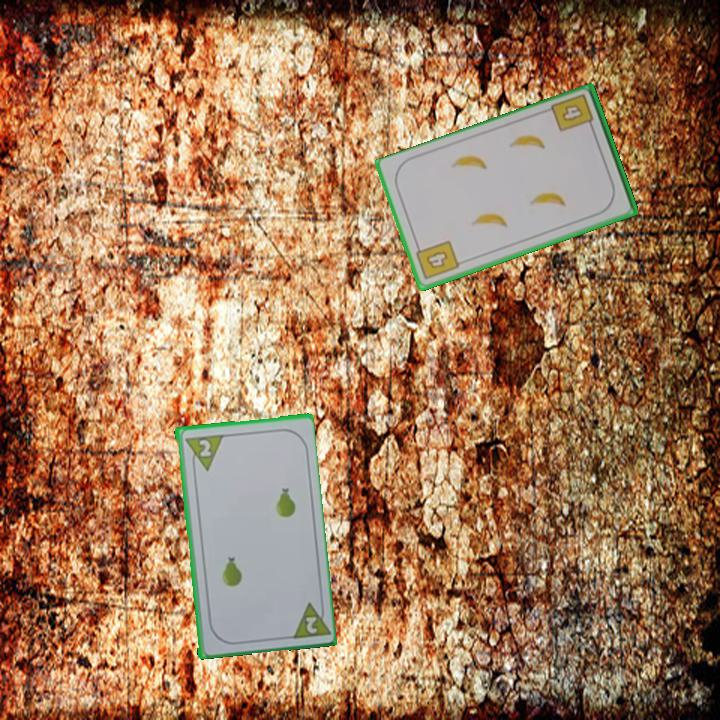2p: (286, 596, 331, 641), (195, 435, 213, 459)
4b: (412, 237, 462, 283), (548, 91, 597, 135)
